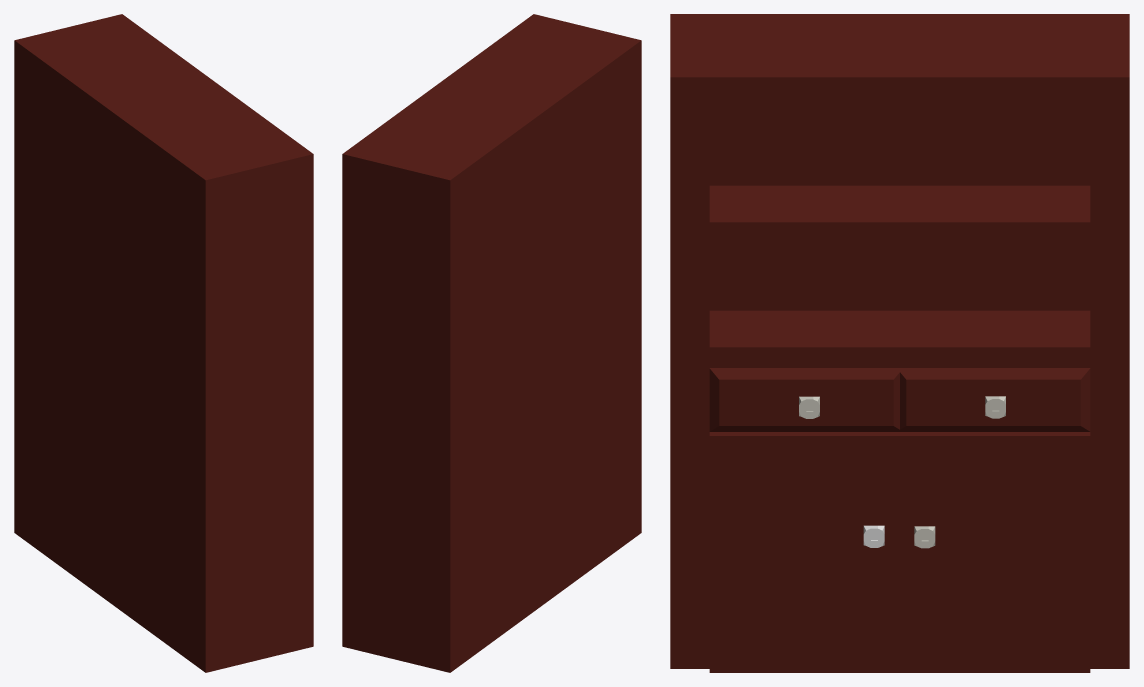
File: cupboard.fbx
3 views of the same model, side by side, from view 1: azimuth 30°, elevation 25°; view 2: azimuth 150°, elevation 25°; view 3: azimuth 270°, elevation 25° (orthographic). The views are drawn at different scales.
Parts seen in each view (by area): view 1: Cube; view 2: Cube; view 3: Cube, Cube.001.
Boxes of the visible parts, left/top/right/bottom form: Cube: left=14, top=14, right=313, bottom=672; Cube: left=342, top=14, right=641, bottom=672; Cube: left=670, top=14, right=1129, bottom=672; Cube.001: left=799, top=396, right=1005, bottom=548.
Size of the model in its own units: 123 by 446 by 314.
